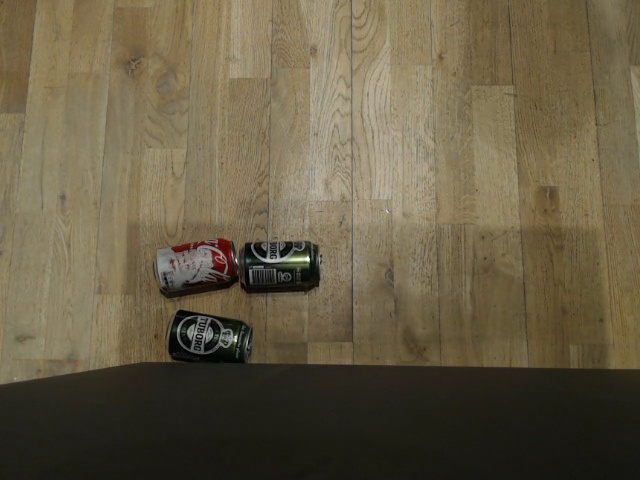beer: (239, 234, 327, 295), (160, 310, 255, 364)
cola: (136, 233, 229, 295)
